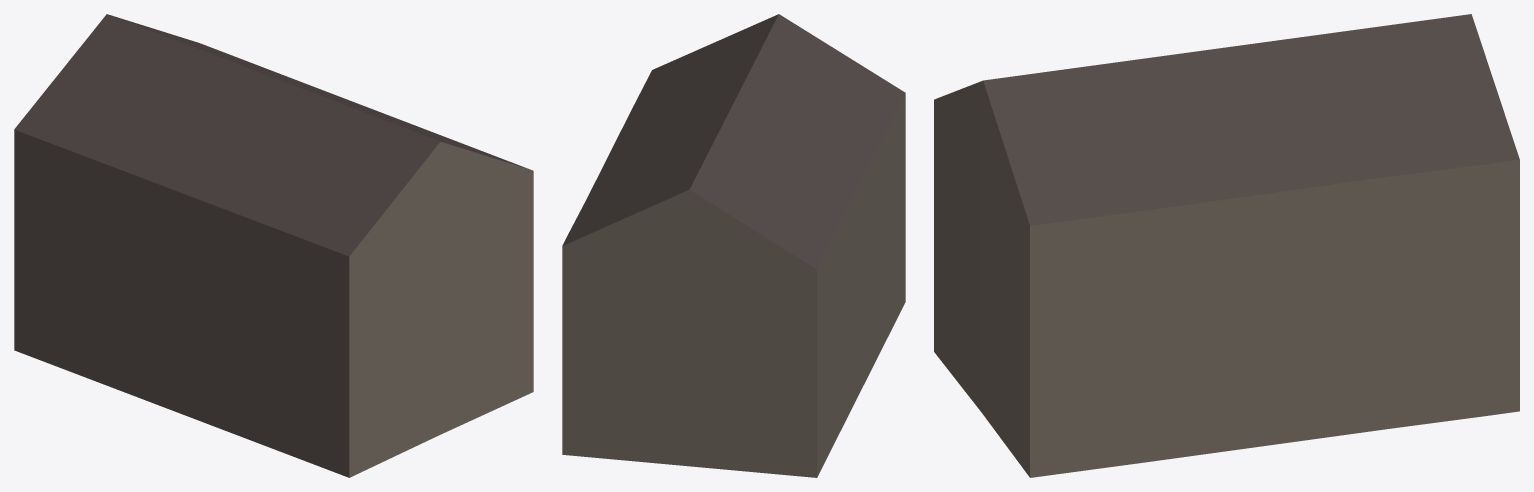
3 renders of one model, left to right at view 1: azimuth 30°, elevation 25°; view 2: azimuth 150°, elevation 25°; view 3: azimuth 270°, elevation 25°, orthographic. The views are drawn at different scales.
Parts seen in each view (by area): view 1: HP-w1198645094; view 2: HP-w1198645094; view 3: HP-w1198645094.
Boxes of the visible parts, bbox=[...] form: HP-w1198645094: bbox=[14, 14, 533, 477]; HP-w1198645094: bbox=[562, 14, 905, 477]; HP-w1198645094: bbox=[934, 14, 1519, 477].
Size of the model in its own units: 9.87 by 7.96 by 12.65.
